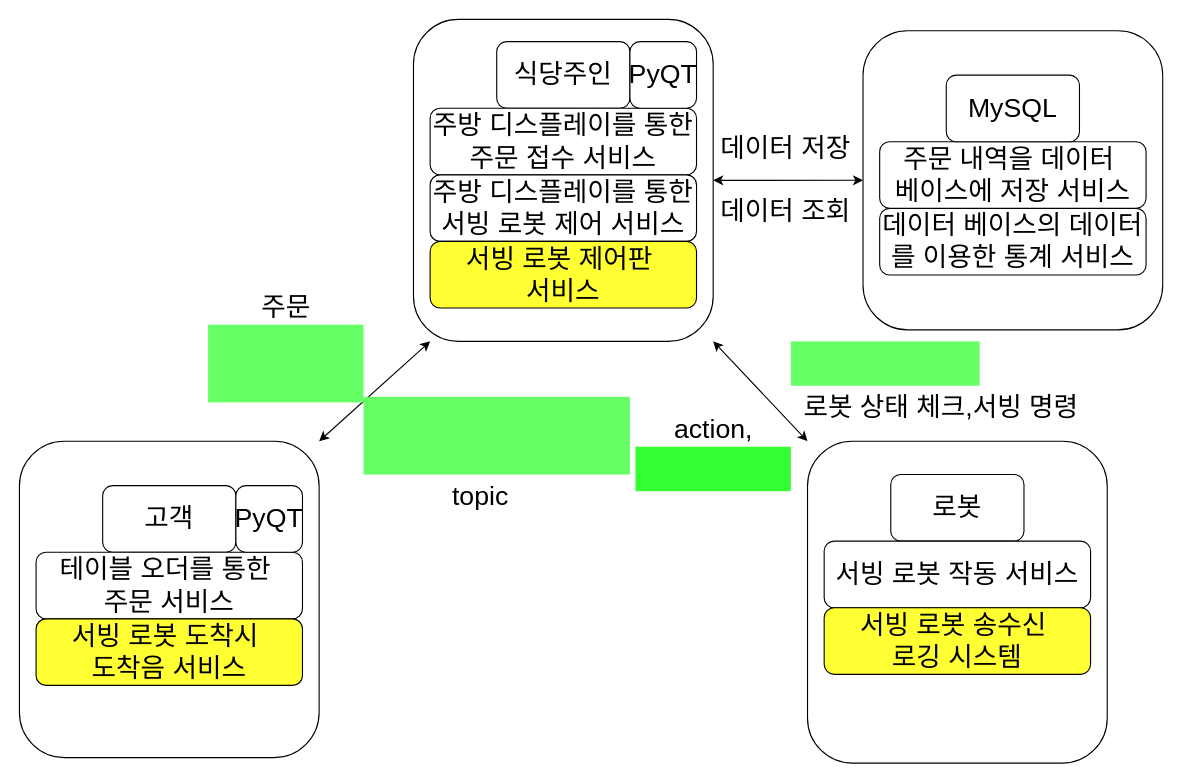
Image size: 1182x783. Some labels were removed from this diagram. The centre of each missing label's shape, as x and y in pixels:
action - 인터페이스 service - 인터페이스: the point at 496,435
topic-QoS: the point at 712,468
로봇 도착 알림 서비스: the point at 285,363
로봇 제어 명령: the point at 884,363
